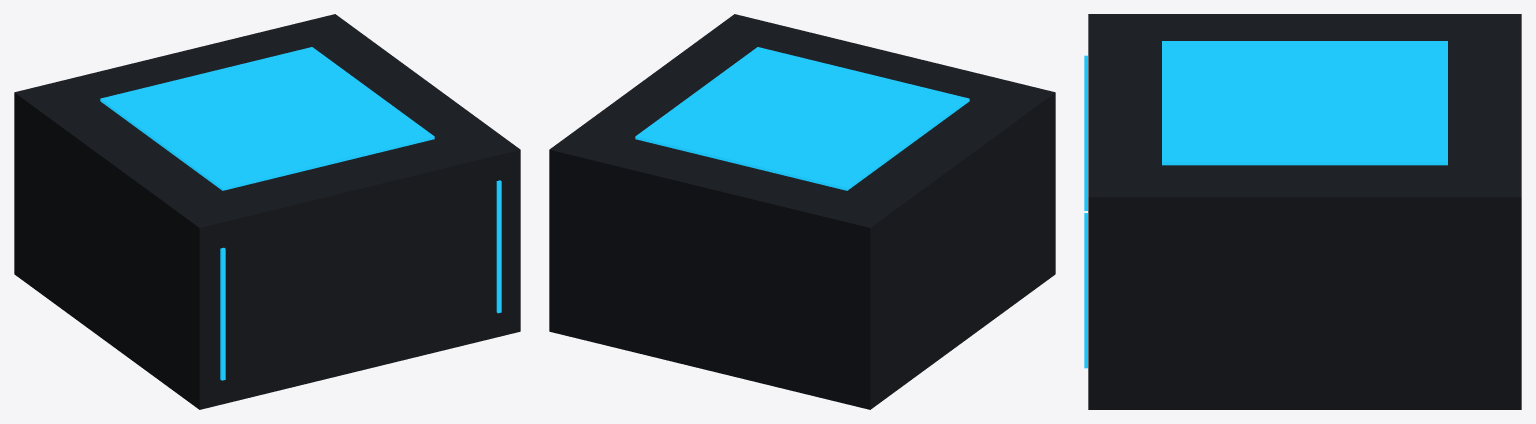
Rendered from cover_crate.glb.
3 views of the same model, side by side, from view 1: azimuth 30°, elevation 25°; view 2: azimuth 150°, elevation 25°; view 3: azimuth 270°, elevation 25° (orthographic). The views are drawn at different scales.
Visible parts, largest first — view 1: CrateBody, TopPlate, Edge_L, Edge_R; view 2: CrateBody, TopPlate; view 3: CrateBody, TopPlate, Edge_L, Edge_R.
Part boxes in pixels (<box>): CrateBody: <box>14,14,520,409</box>; TopPlate: <box>100,47,434,190</box>; Edge_L: <box>220,247,225,380</box>; Edge_R: <box>496,180,501,313</box>; CrateBody: <box>549,14,1055,409</box>; TopPlate: <box>635,47,969,190</box>; CrateBody: <box>1088,14,1521,409</box>; TopPlate: <box>1162,41,1447,165</box>; Edge_L: <box>1084,55,1087,210</box>; Edge_R: <box>1084,213,1087,368</box>.
Bounding box in the file's own units: 2.4 × 1.33 × 2.42.
